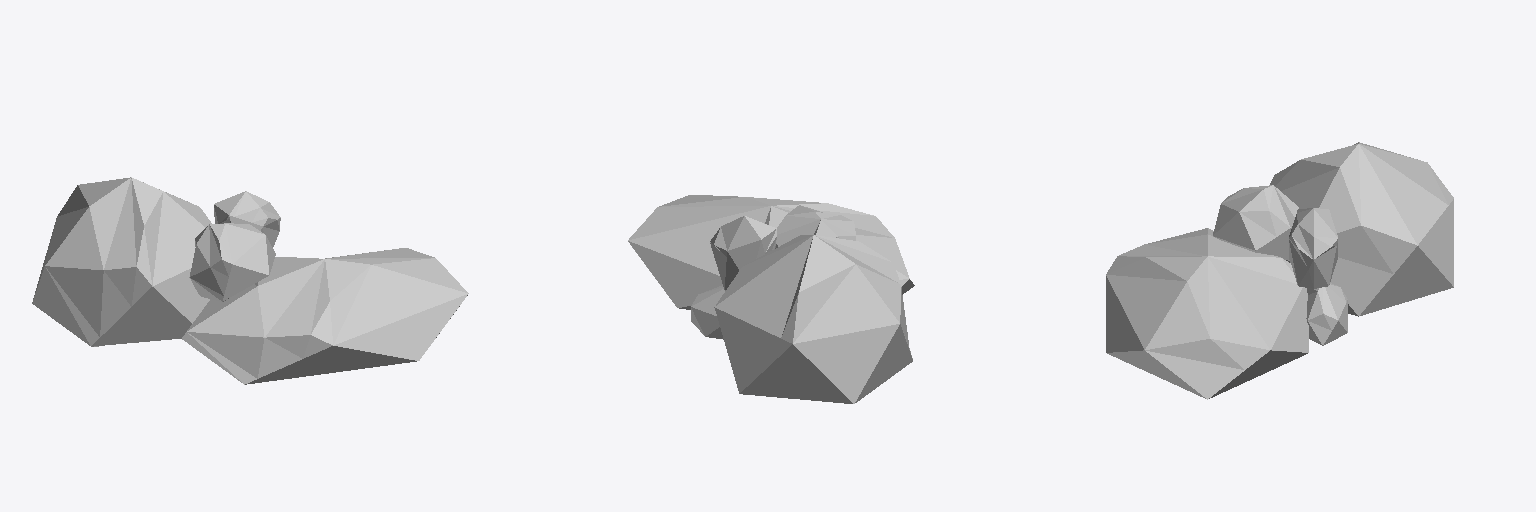
Rendered from largeRocks.obj.
3 renders of one model, left to right at view 1: azimuth 30°, elevation 25°; view 2: azimuth 150°, elevation 25°; view 3: azimuth 270°, elevation 25°, orthographic.
Visible parts, largest first — view 1: largeRocks; view 2: largeRocks; view 3: largeRocks.
Part boxes in pixels (left/top/right/bottom): largeRocks: left=32, top=177, right=468, bottom=384; largeRocks: left=628, top=195, right=914, bottom=403; largeRocks: left=1106, top=142, right=1453, bottom=399.
Bounding box in the file's own units: 377 × 148 × 331.